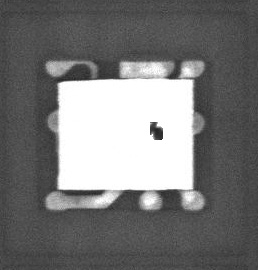DIE_INK: (150, 122, 165, 140)
